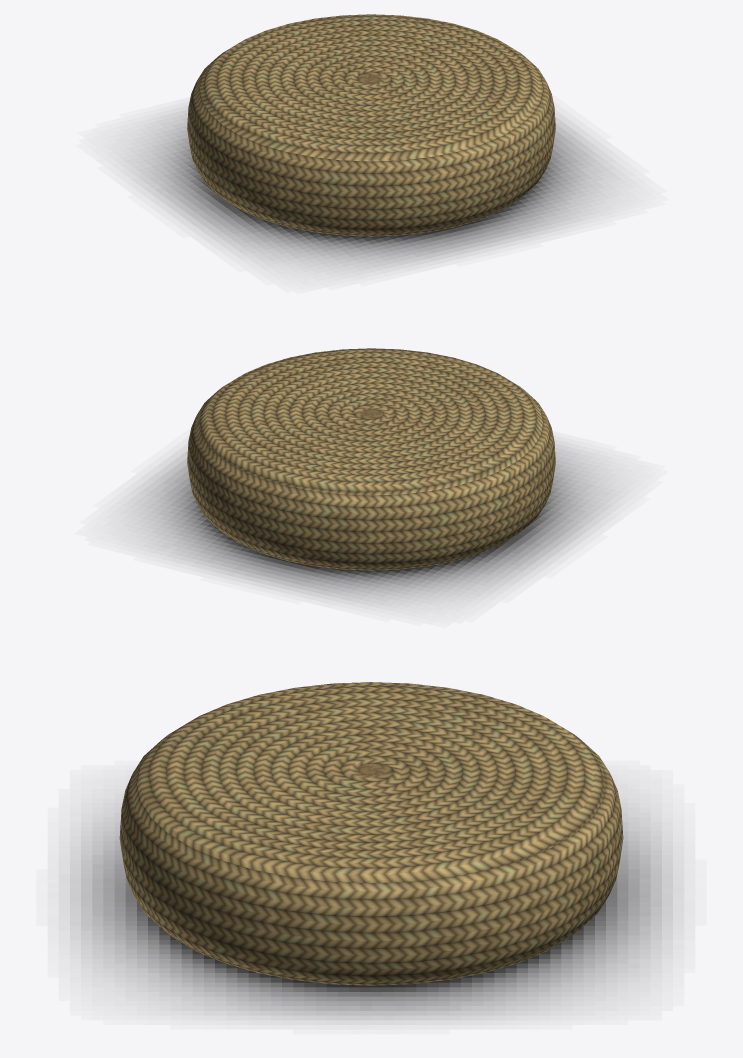
Rendered from tea_cushion.glb.
The picture shows the model from 3 angles, top to bottom: view 1: azimuth 30°, elevation 25°; view 2: azimuth 150°, elevation 25°; view 3: azimuth 270°, elevation 25°; orthographic projection. The views are drawn at different scales.
Parts seen in each view (by area): view 1: tea_cushion_LOD0, tea_cushion_Shadow; view 2: tea_cushion_LOD0, tea_cushion_Shadow; view 3: tea_cushion_LOD0, tea_cushion_Shadow.
Part boxes in pixels (left/top/right/bottom): tea_cushion_LOD0: left=187, top=14, right=555, bottom=236; tea_cushion_Shadow: left=133, top=110, right=609, bottom=268; tea_cushion_LOD0: left=187, top=348, right=555, bottom=570; tea_cushion_Shadow: left=133, top=444, right=610, bottom=604; tea_cushion_LOD0: left=119, top=682, right=623, bottom=985; tea_cushion_Shadow: left=70, top=807, right=672, bottom=1019.
Size of what is drawn, in the model's own units: 0.6768 by 0.129 by 0.6768.
Materials: 2 (2 with a texture image).
